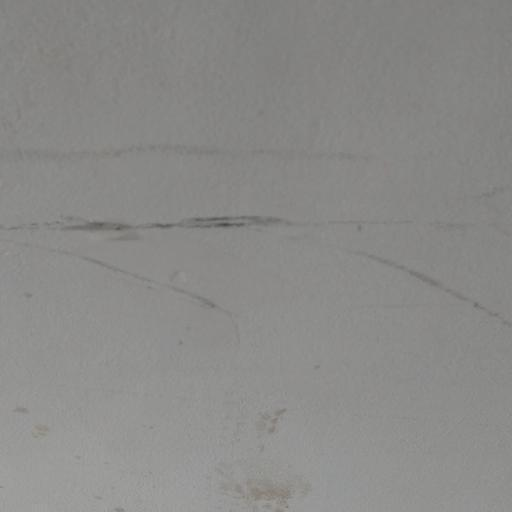stain: (13, 193, 512, 349), (0, 126, 399, 179), (201, 392, 338, 512), (7, 396, 69, 451), (309, 356, 331, 381)
